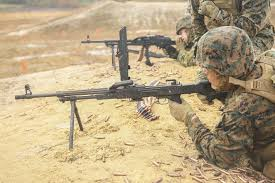gun: (14, 77, 223, 119), (79, 30, 181, 66)
